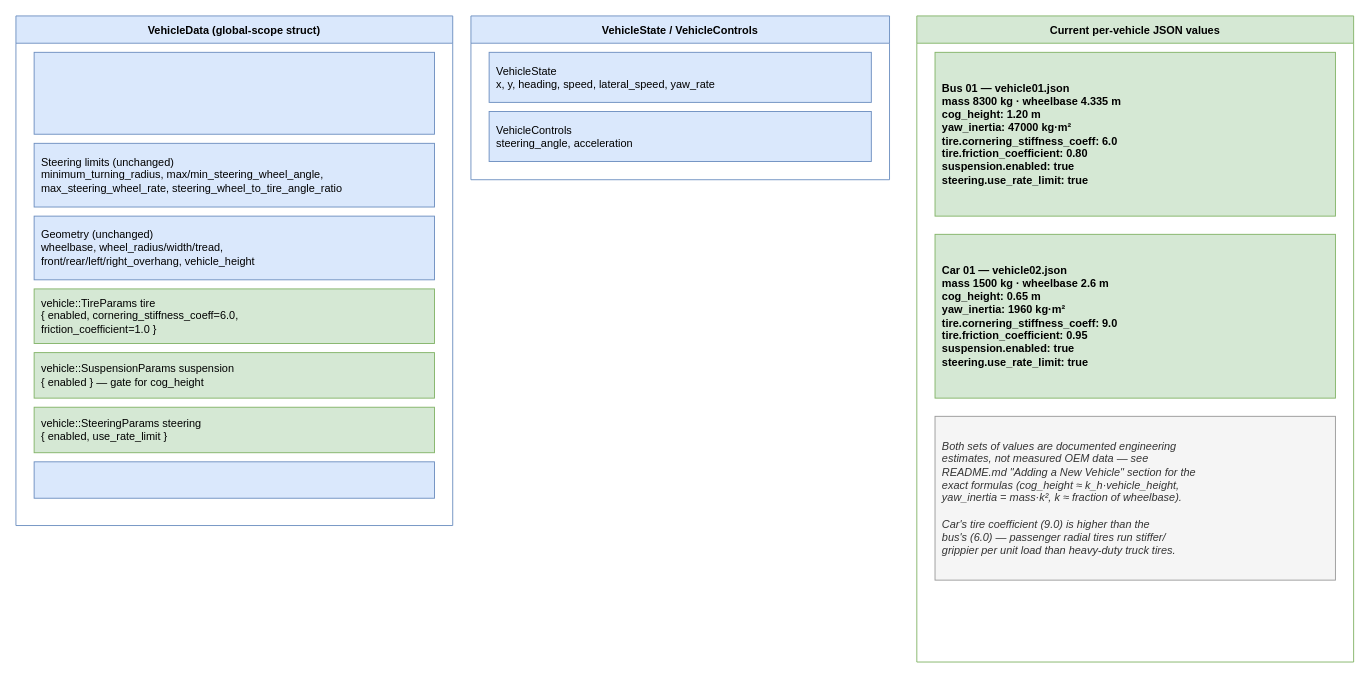
Some shapes in this 1370 by 678 pixel diagram are drawn without their labels. Here are the shapes that lost their labels. From the top down, the centre of each, then its label:
the point at 234,92: Dynamics mass, a, b, CA, cog_height [m] — NEW yaw_inertia [kg·m²] — NEW
the point at 234,479: bool loaded
